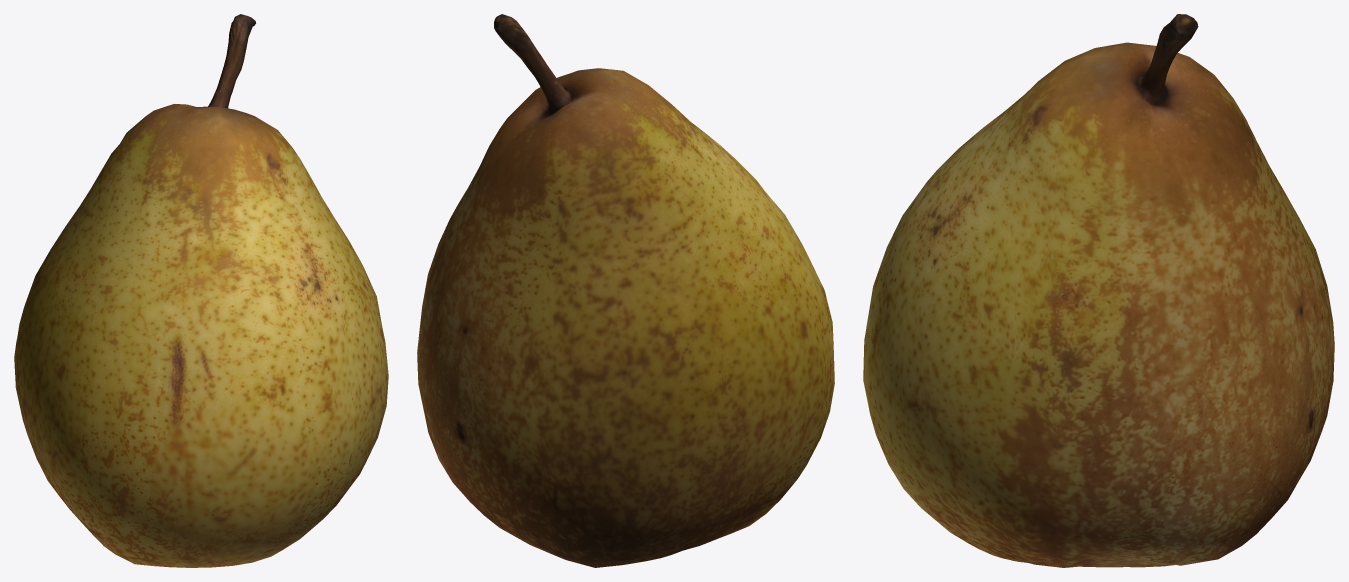
Rendered from pear.glb.
3 renders of one model, left to right at view 1: azimuth 30°, elevation 25°; view 2: azimuth 150°, elevation 25°; view 3: azimuth 270°, elevation 25°, orthographic. The views are drawn at different scales.
Visible parts, largest first — view 1: PearLP; view 2: PearLP; view 3: PearLP.
Boxes of the visible parts, x1=… form: PearLP: x1=14, y1=14, x2=388, y2=567; PearLP: x1=417, y1=14, x2=834, y2=567; PearLP: x1=863, y1=14, x2=1334, y2=567.
Bounding box in the file's own units: 1.96 × 2.72 × 2.05.
1 material, 1 textured.
